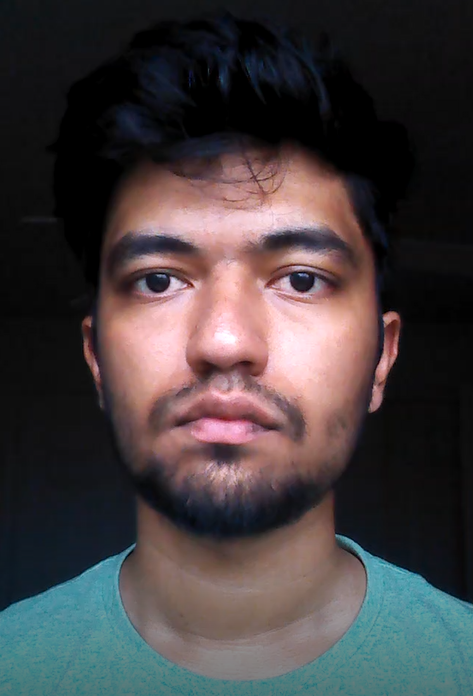Not Sleeping: (105, 228, 353, 313)
